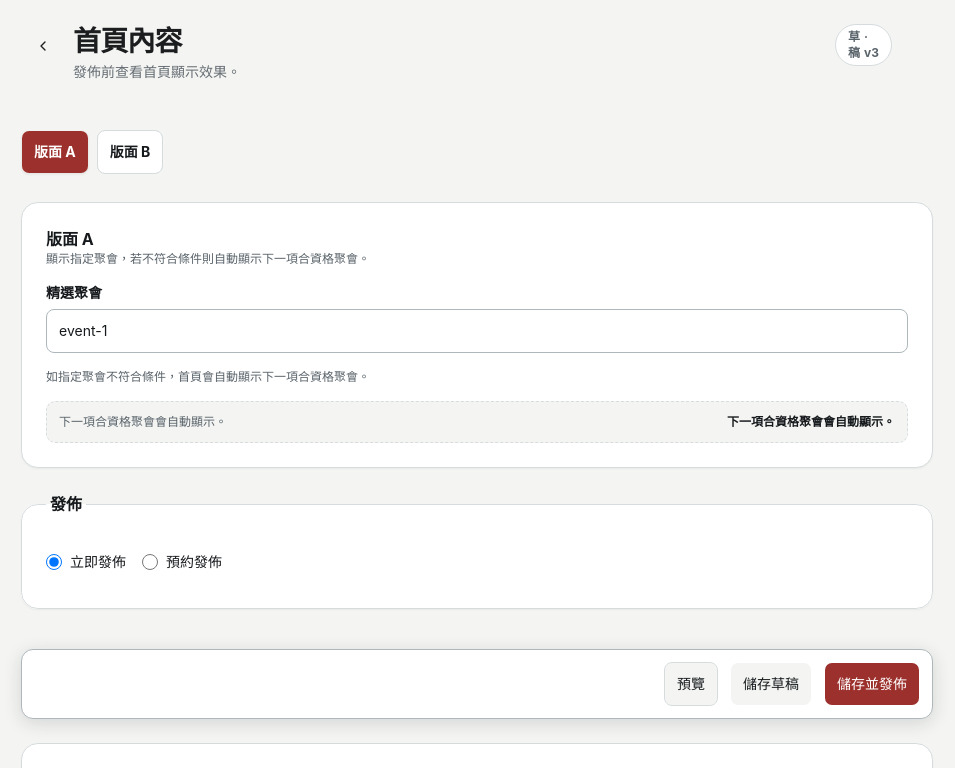
Test: HomeContentEditor › CS-01: confirmed publish remains visible when post-publish audit GET fails with transient error
Check: the heading "首頁內容" is shown, box [73,24,182,58]
Check: the field with id "home-cms-featured-event" is shown, box [46,309,908,353]
Click the button "儲存並發佈": (872, 684) [824,662,920,706]
(page scrolled)
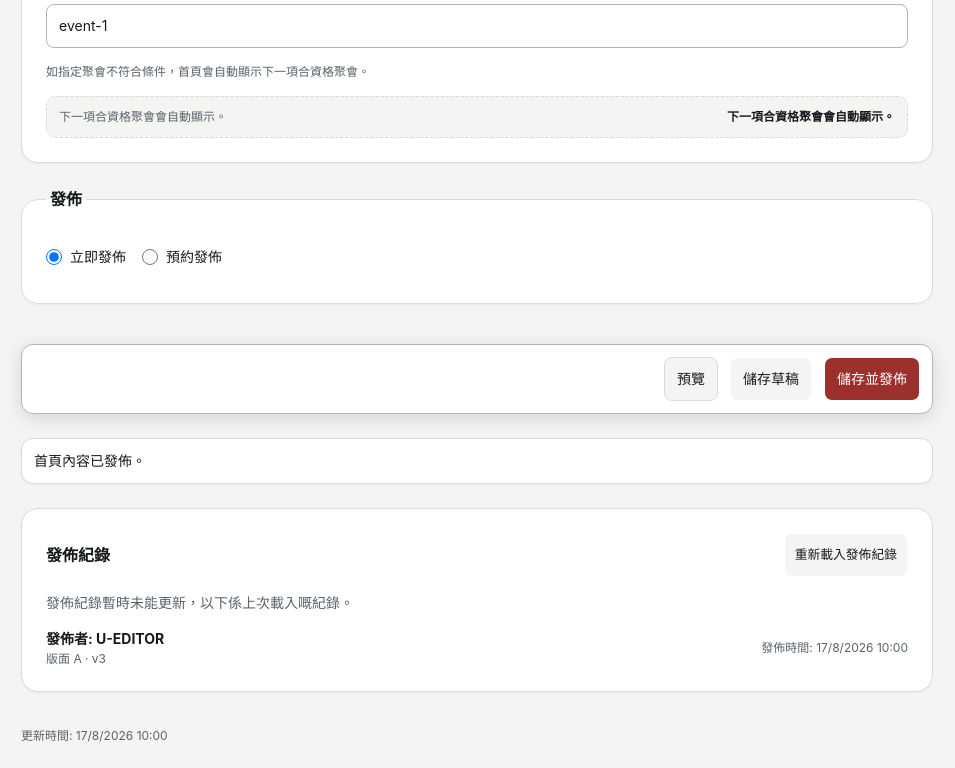
Check: the text "首頁內容已發佈。" is shown, box [21,438,933,484]
Check: the element "發佈紀錄" shows "發佈紀錄暫時未能更新，以下係上次載入嘅紀錄。", box [46,594,354,611]
Check: the button "重新載入發佈紀錄" is shown, box [784,533,908,577]
